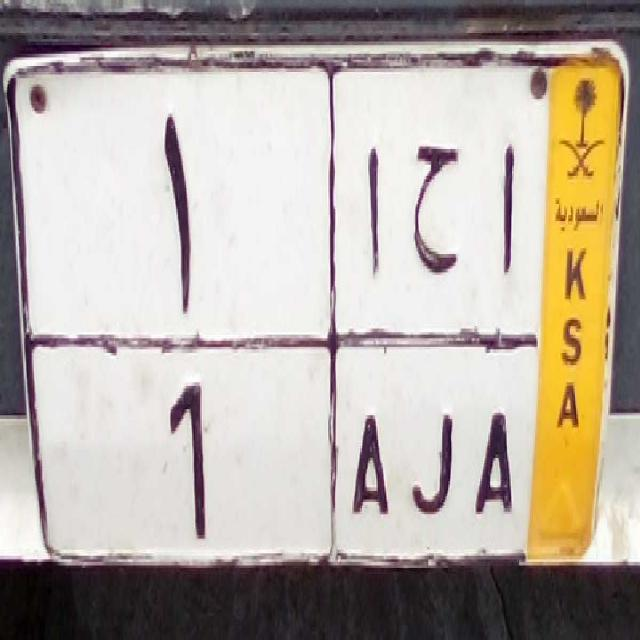license_plate: (79, 352, 528, 576)
